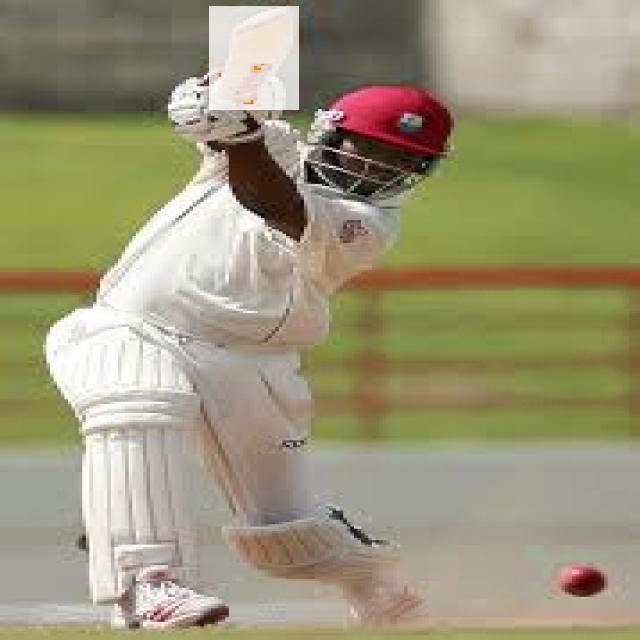bat: (210, 6, 300, 112)
toe: (241, 9, 280, 30)
